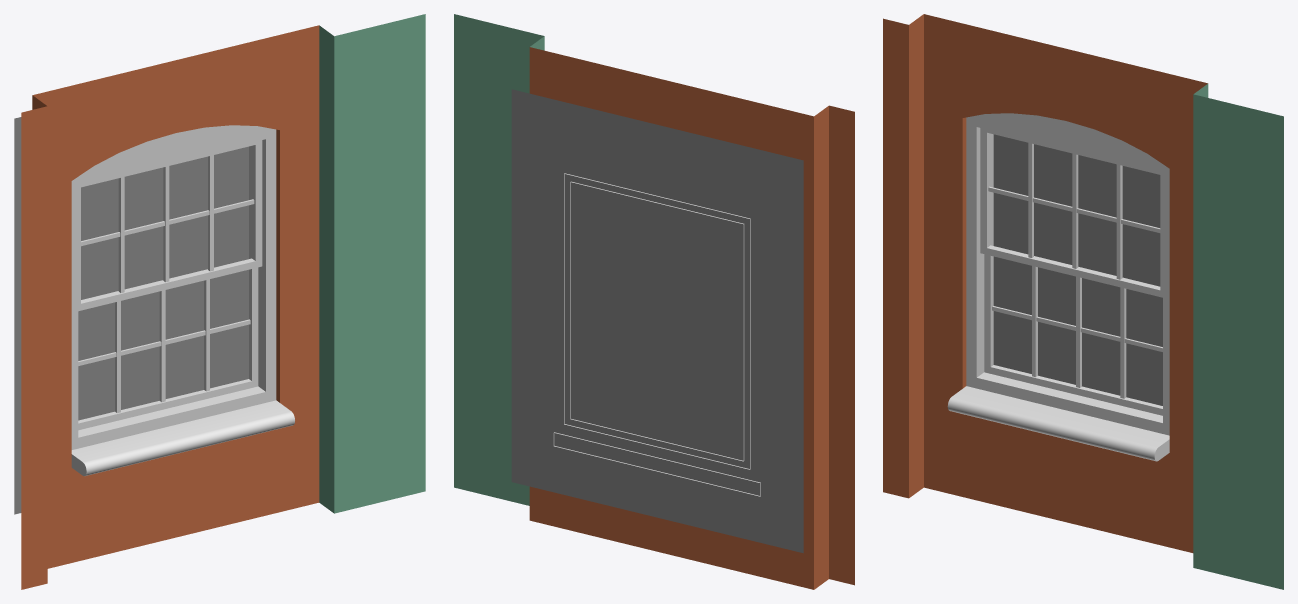
File: object_B3_Top_floor_window_corner.glb
The picture shows the model from 3 angles, left to right: view 1: azimuth 30°, elevation 25°; view 2: azimuth 150°, elevation 25°; view 3: azimuth 330°, elevation 25°; orthographic projection.
Parts seen in each view (by area): view 1: B3 Top floor window corner; view 2: B3 Top floor window corner; view 3: B3 Top floor window corner.
Part boxes in pixels (left/top/right/bottom): B3 Top floor window corner: left=14, top=14, right=425, bottom=589; B3 Top floor window corner: left=454, top=14, right=854, bottom=589; B3 Top floor window corner: left=883, top=14, right=1283, bottom=589.
Bounding box in the file's own units: 3.1 × 3.5 × 0.4.
